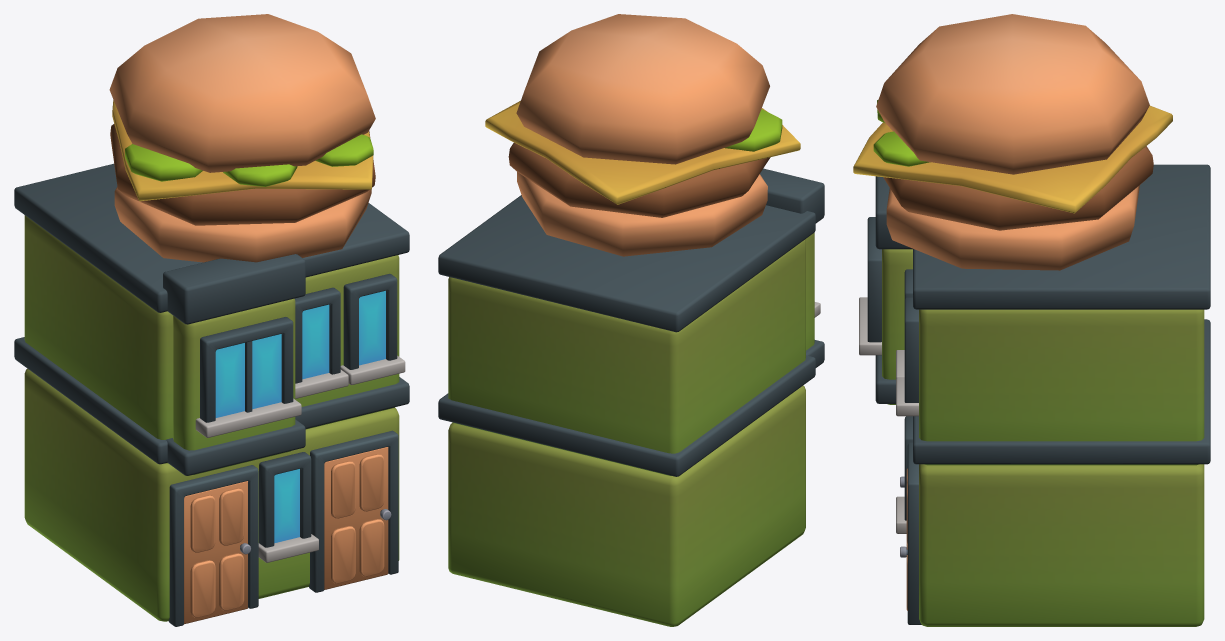
Rendered from mct_build_full_burgz.fbx.
The picture shows the model from 3 angles, left to right: view 1: azimuth 30°, elevation 25°; view 2: azimuth 150°, elevation 25°; view 3: azimuth 270°, elevation 25°; orthographic projection. The views are drawn at different scales.
Parts seen in each view (by area): view 1: mct_build_full_burgz, mct_build_full_burgz_door01, mct_build_full_burgz_door02; view 2: mct_build_full_burgz; view 3: mct_build_full_burgz.
Boxes of the visible parts, x1=… form: mct_build_full_burgz: x1=14, y1=14, x2=409, y2=626; mct_build_full_burgz_door01: x1=324, y1=447, x2=391, y2=589; mct_build_full_burgz_door02: x1=184, y1=481, x2=250, y2=624; mct_build_full_burgz: x1=438, y1=14, x2=824, y2=626; mct_build_full_burgz: x1=853, y1=14, x2=1210, y2=626.
Size of the model in its own units: 445 by 825 by 501.
